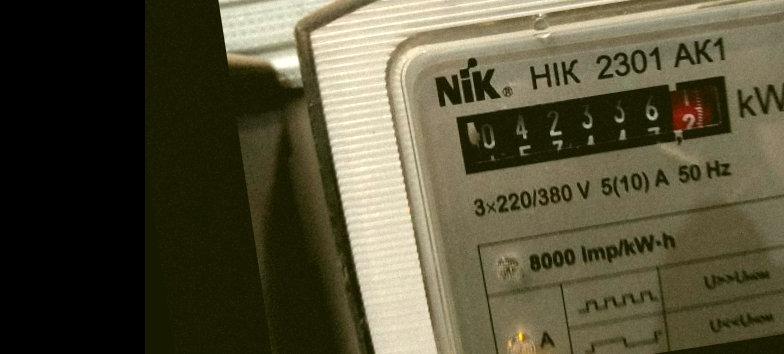0: (478, 120, 498, 150)
1: (678, 84, 693, 107)
2: (545, 105, 565, 137), (680, 109, 698, 129)
3: (608, 93, 628, 125), (576, 100, 595, 130)
4: (511, 109, 532, 141)
6: (641, 90, 663, 122)
screen: (443, 60, 748, 184)
